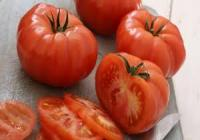tomato: (15, 0, 95, 84), (99, 50, 171, 136), (115, 2, 185, 83)
